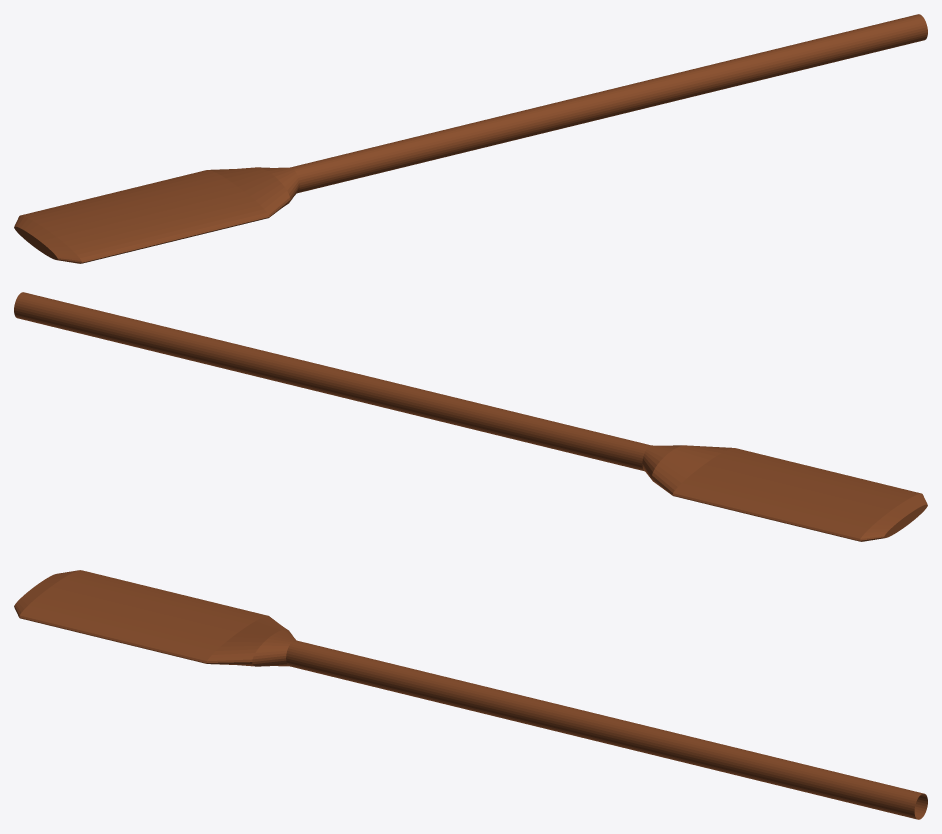
File: Oar.fbx
The picture shows the model from 3 angles, top to bottom: view 1: azimuth 30°, elevation 25°; view 2: azimuth 150°, elevation 25°; view 3: azimuth 330°, elevation 25°; orthographic projection.
Parts seen in each view (by area): view 1: Circle; view 2: Circle; view 3: Circle.
Boxes of the visible parts, x1,y1,x2,y2 form: Circle: (14,14,927,263); Circle: (14,292,927,541); Circle: (14,570,927,819).
Bounding box in the file's own units: 1059 × 27.88 × 131.
